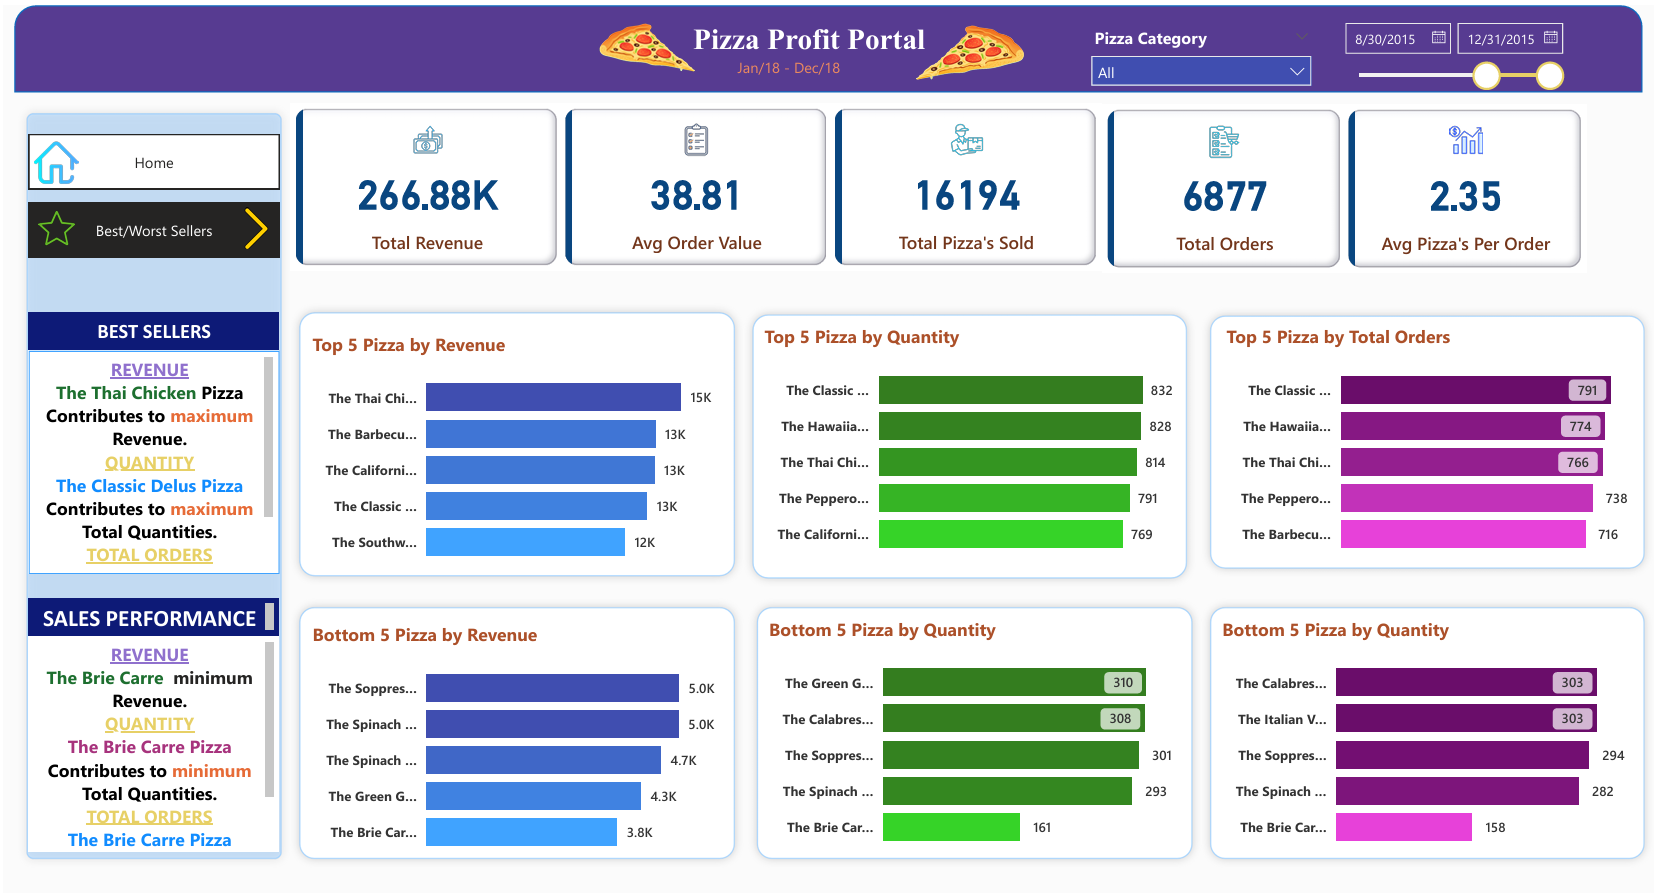

The page's visual inventory and layout, read from the dashboard file:
{"tool":"powerbi","page":{"name":"Best/Worst Sellers","canvas":[1500,820],"ordinal":1},"visuals":[{"type":"shape","box":[12.9,90,248.6,694.3],"z":0},{"type":"textbox","box":[22.9,278.6,228.6,35.7],"z":1000},{"type":"cardVisual","fields":{"Data":["pizza_sales.Total Revenue","pizza_sales.Avg Order Value","pizza_sales.Total Pizza's Sold"]},"box":[261.4,88.6,737.1,152.9],"z":2000},{"type":"cardVisual","fields":{"Data":["pizza_sales.Total Orders","pizza_sales.Avg Pizza's Per Order"]},"box":[998.6,90,440,152.9],"z":3000},{"type":"shape","box":[10,0,1480,78.6],"z":4000},{"type":"textbox","box":[486.2,11.2,492.5,42.5],"z":5000},{"type":"image","box":[518.8,0,128.8,78.8],"z":6000},{"type":"textbox","box":[393,42,642,37],"z":7000},{"type":"image","box":[769,11,210,68],"z":8000},{"type":"shape","box":[261.4,271.4,411.4,255.7],"z":9000},{"type":"textbox","box":[22.9,314.3,228.6,202.9],"z":10000},{"type":"textbox","box":[22.9,538.6,228.6,35.7],"z":11000},{"type":"textbox","box":[22.9,574.3,228.6,195.7],"z":12000},{"type":"slicer","fields":{"Values":["pizza_sales.pizza_category"]},"box":[978.6,14.3,220,90],"z":13000},{"type":"slicer","fields":{"Values":["pizza_sales.order_date"]},"box":[1207.1,5.7,220,78.6],"z":14000},{"type":"shape","box":[1088.6,274.3,411.4,245.7],"z":15000},{"type":"shape","box":[672.9,272.9,411.4,255.7],"z":16000},{"type":"shape","box":[261.4,538.6,411.4,245.7],"z":17000},{"type":"shape","box":[677.1,538.6,411.4,245.7],"z":18000},{"type":"shape","box":[1088.6,538.6,411.4,245.7],"z":19000},{"type":"barChart","title":"Top 5 Pizza by Revenue","fields":{"Category":["pizza_sales.pizza_name"],"Y":["pizza_sales.Total Revenue"]},"box":[275.7,297.1,382.9,222.9],"z":20000},{"type":"barChart","title":"Bottom 5 Pizza by Revenue","fields":{"Category":["pizza_sales.pizza_name"],"Y":["pizza_sales.Total Revenue"]},"box":[275.7,561.4,382.9,222.9],"z":21000},{"type":"barChart","title":"Top 5 Pizza by Quantity","fields":{"Category":["pizza_sales.pizza_name"],"Y":["pizza_sales.Total Pizza's Sold"]},"box":[687.1,290,382.9,222.9],"z":22000},{"type":"barChart","title":"Bottom 5 Pizza by Quantity","fields":{"Category":["pizza_sales.pizza_name"],"Y":["pizza_sales.Total Pizza's Sold"]},"box":[691.4,555.7,382.9,222.9],"z":23000},{"type":"barChart","title":"Top 5 Pizza by Total Orders","fields":{"Category":["pizza_sales.pizza_name"],"Y":["pizza_sales.Total Orders"]},"box":[1107.1,290,382.9,222.9],"z":24000},{"type":"barChart","title":"Bottom 5 Pizza by Quantity","fields":{"Category":["pizza_sales.pizza_name"],"Y":["pizza_sales.Total Orders"]},"box":[1102.9,555.7,382.9,222.9],"z":25000},{"type":"pageNavigator","box":[22.9,117.1,228.6,50],"z":26000},{"type":"pageNavigator","box":[22.9,178.6,228.6,50],"z":27000},{"type":"image","box":[198.6,178.6,62.9,48.6],"z":28000},{"type":"image","box":[22.9,112.9,50,60],"z":29000},{"type":"image","box":[12.9,181.4,70,42.9],"z":30000}]}

Visuals, with their boxes in screenshot pixels (x1, y1, x2, y2), scaled from the page's 1500x820 canvas onto the 1661x893 screenshot:
shape: (14,98,290,854)
textbox: (25,303,278,342)
cardVisual - pizza_sales.Total Revenue x pizza_sales.Avg Order Value: (289,96,1106,263)
cardVisual - pizza_sales.Total Orders x pizza_sales.Avg Pizza's Per Order: (1106,98,1593,265)
shape: (11,0,1650,86)
textbox: (538,12,1084,58)
image: (574,0,717,86)
textbox: (435,46,1146,86)
image: (852,12,1084,86)
shape: (289,296,745,574)
textbox: (25,342,278,563)
textbox: (25,587,278,625)
textbox: (25,625,278,839)
slicer - pizza_sales.pizza_category: (1084,16,1327,114)
slicer - pizza_sales.order_date: (1337,6,1580,92)
shape: (1205,299,1660,566)
shape: (745,297,1201,576)
shape: (289,587,745,854)
shape: (750,587,1205,854)
shape: (1205,587,1660,854)
"Top 5 Pizza by Revenue" barChart: (305,324,729,566)
"Bottom 5 Pizza by Revenue" barChart: (305,611,729,854)
"Top 5 Pizza by Quantity" barChart: (761,316,1185,559)
"Bottom 5 Pizza by Quantity" barChart: (766,605,1190,848)
"Top 5 Pizza by Total Orders" barChart: (1226,316,1650,559)
"Bottom 5 Pizza by Quantity" barChart: (1221,605,1645,848)
pageNavigator: (25,128,278,182)
pageNavigator: (25,194,278,249)
image: (220,194,290,247)
image: (25,123,81,188)
image: (14,198,92,244)
